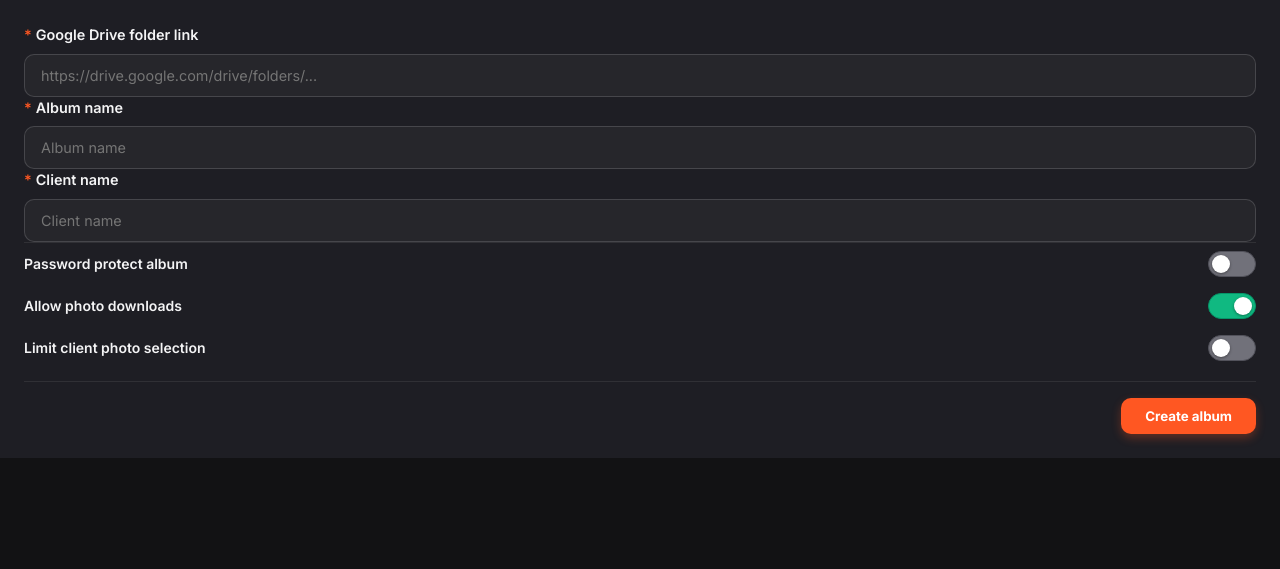
Test: CreateAlbumForm › displays imported and skipped counts when returned from creation response
Type "Birthday" into the field labelled "Album name" at (640, 148), box [24,126,1256,169]
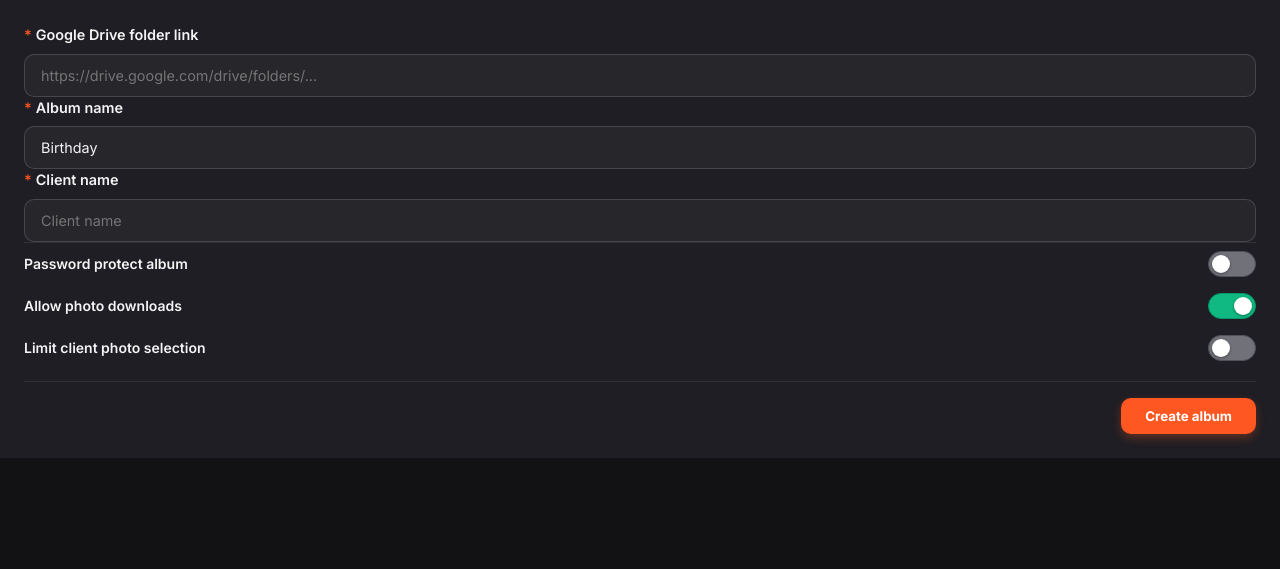
Type "John" into the field labelled "Client name" at (640, 220), box [24,199,1256,242]
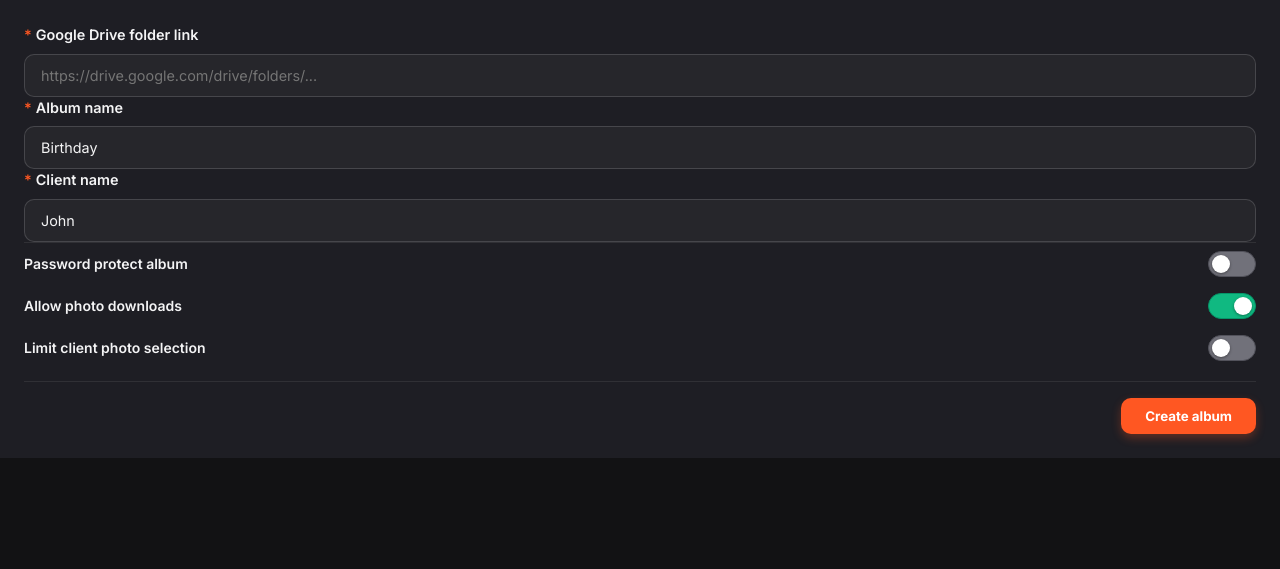
Type "https://drive.google.com/drive/folders/456DEF" into the field labelled "Google Drive folder link" at (640, 75), box [24,54,1256,97]
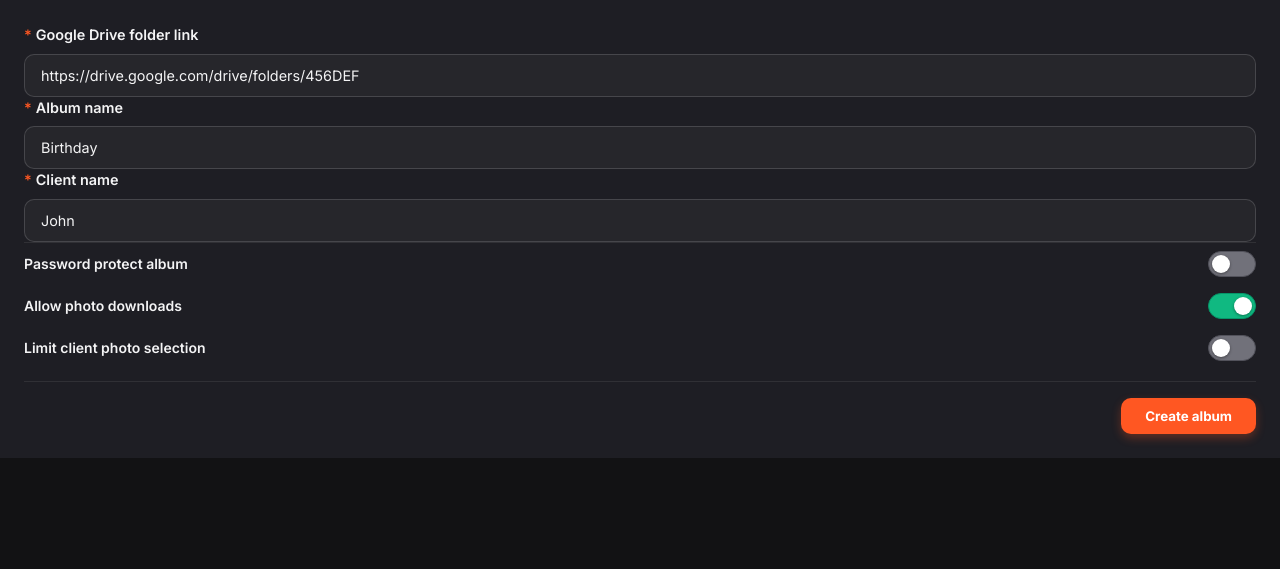
Click the button "Create album" at (1189, 416), box [1121,398,1256,434]
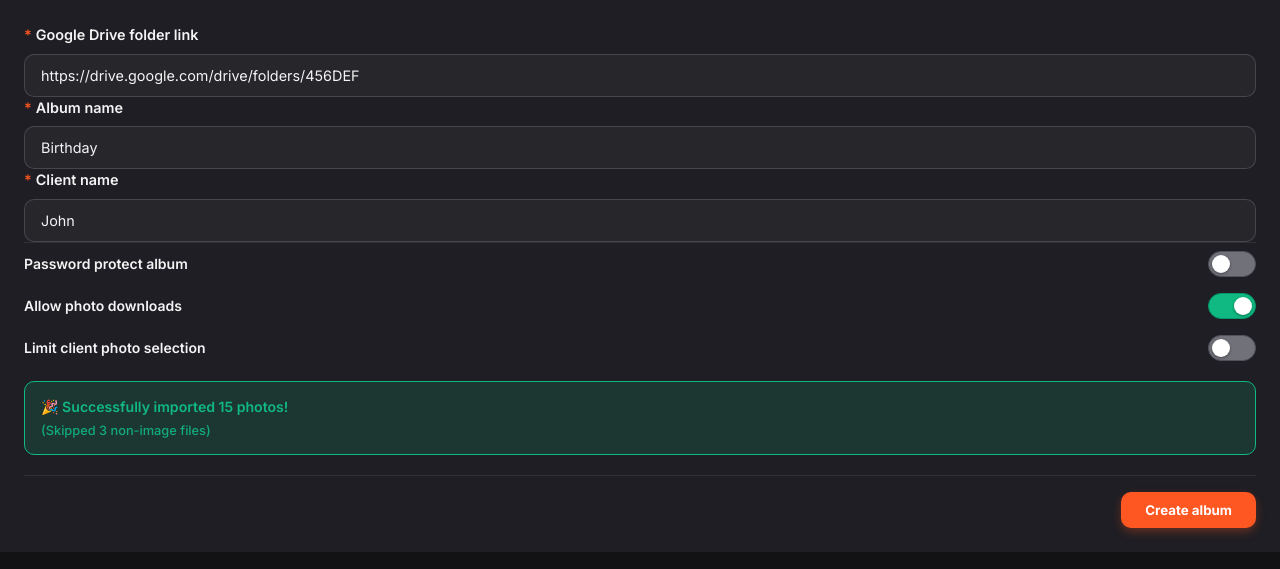
Now the message shows "Successfully imported 15 photos!", box [24,381,1256,455]
Now the message shows "Skipped 3 non-image files", box [24,381,1256,455]
